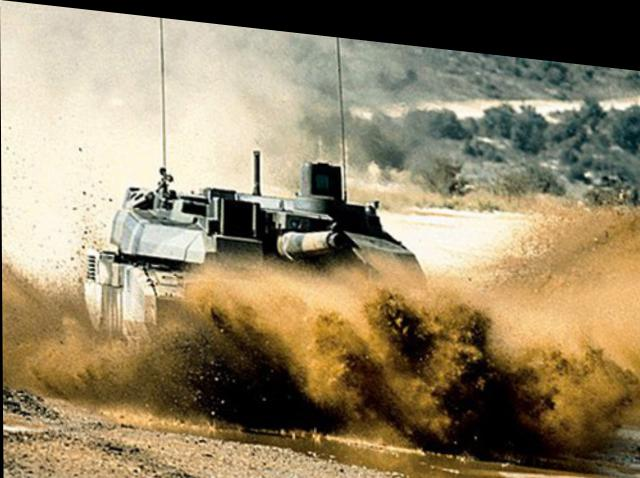tank: (64, 138, 443, 378)
